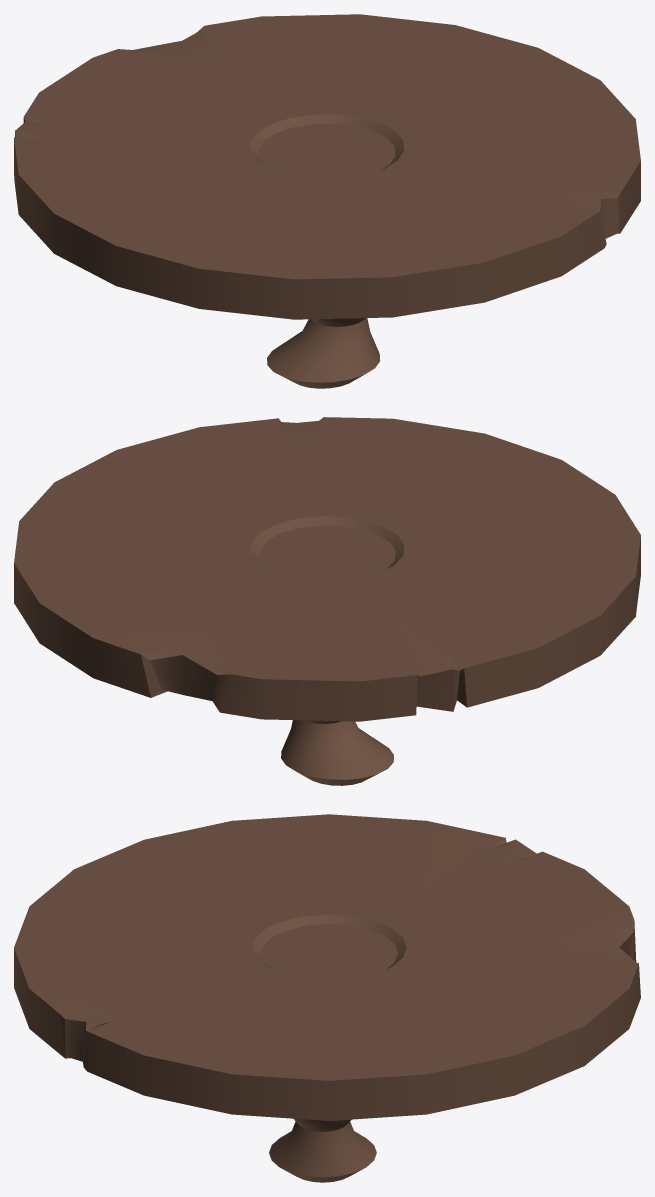
File: Table.fbx
The picture shows the model from 3 angles, top to bottom: view 1: azimuth 30°, elevation 25°; view 2: azimuth 150°, elevation 25°; view 3: azimuth 270°, elevation 25°; orthographic projection.
Visible parts, largest first — view 1: small_table1, leg; view 2: small_table1, leg; view 3: small_table1, leg.
Boxes of the visible parts, x1,y1,x2,y2 form: small_table1: (14,14,640,319); leg: (267,318,379,388); small_table1: (14,417,640,721); leg: (281,720,393,785); small_table1: (14,814,640,1120); leg: (269,1118,376,1182).
Bounding box in the file's own units: 214 × 83.99 × 212.
